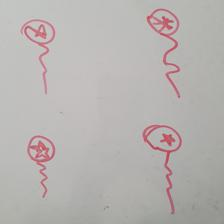translation-end: (141, 124, 182, 216), (146, 8, 183, 98), (20, 19, 56, 95), (26, 135, 56, 199)
